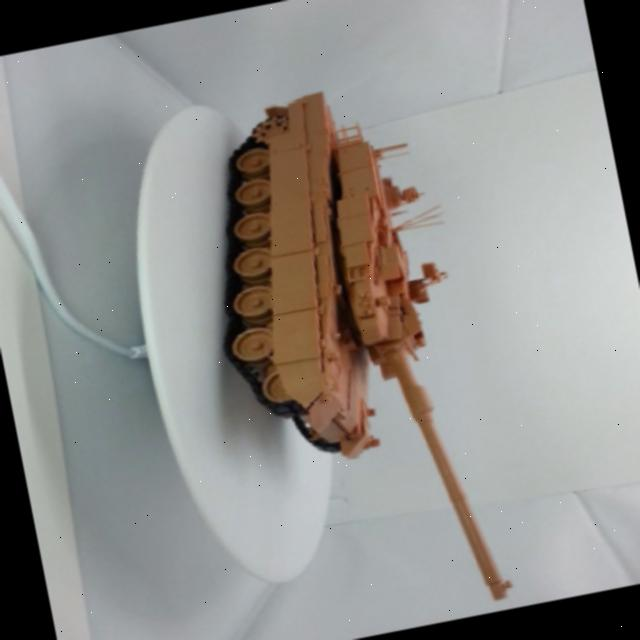korea tank: (161, 33, 528, 640)
